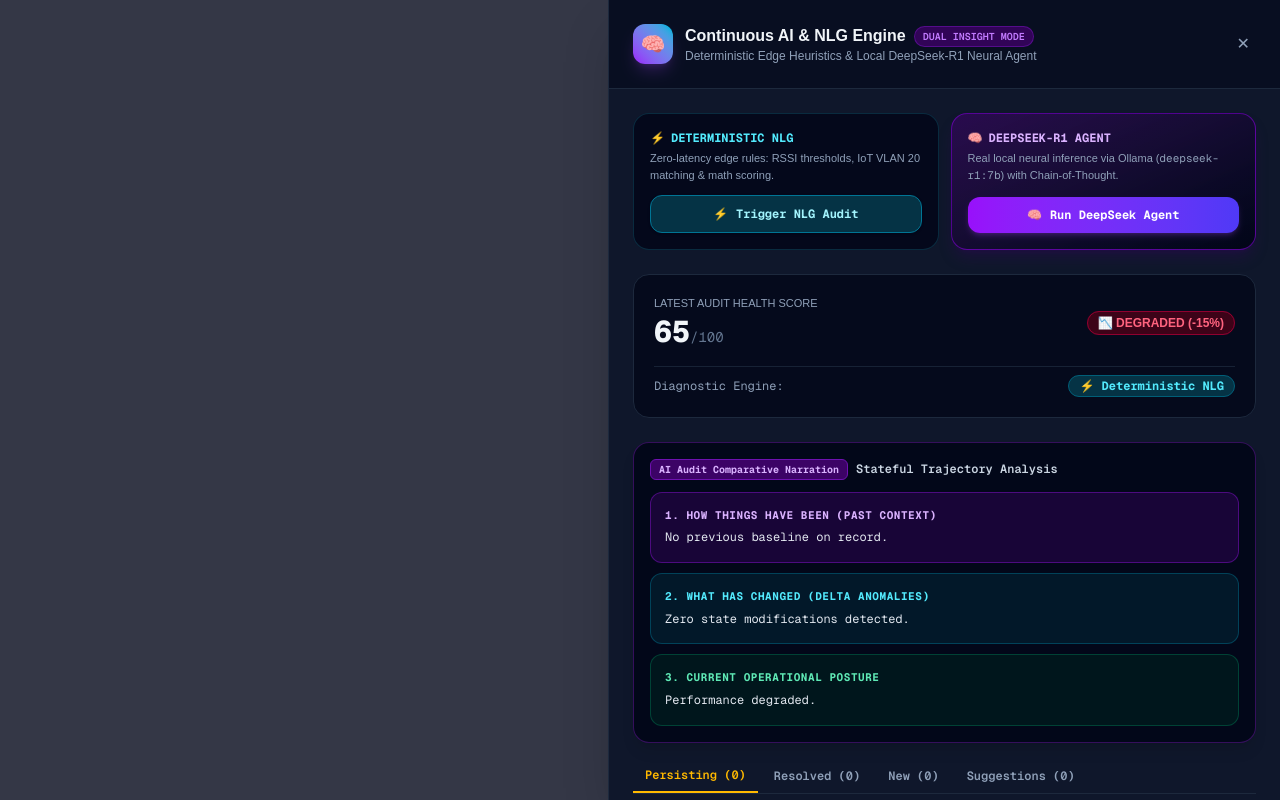
Test: AiInsightsDrawer Component › renders DEGRADED and INITIAL badges and empty tab notices properly
Expected: the text "📉 DEGRADED (-15%)" is shown, [1087,311,1235,335]
Note: Check empty resolved notice
Click the button "Resolved (0)" at {"x": 817, "y": 780}, box [762,767,872,793]
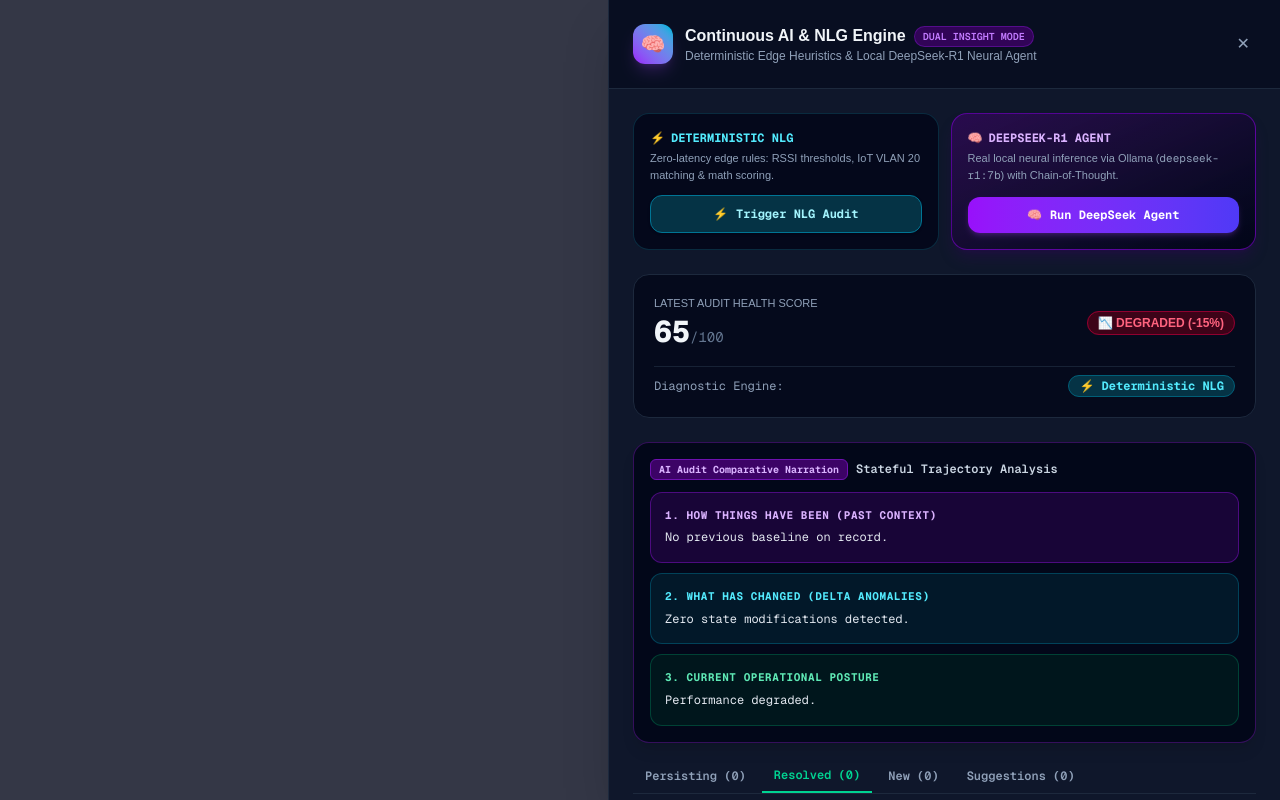
Note: Check empty new notice
Click the button "New (0)" at {"x": 913, "y": 780}, box [876,767,951,793]
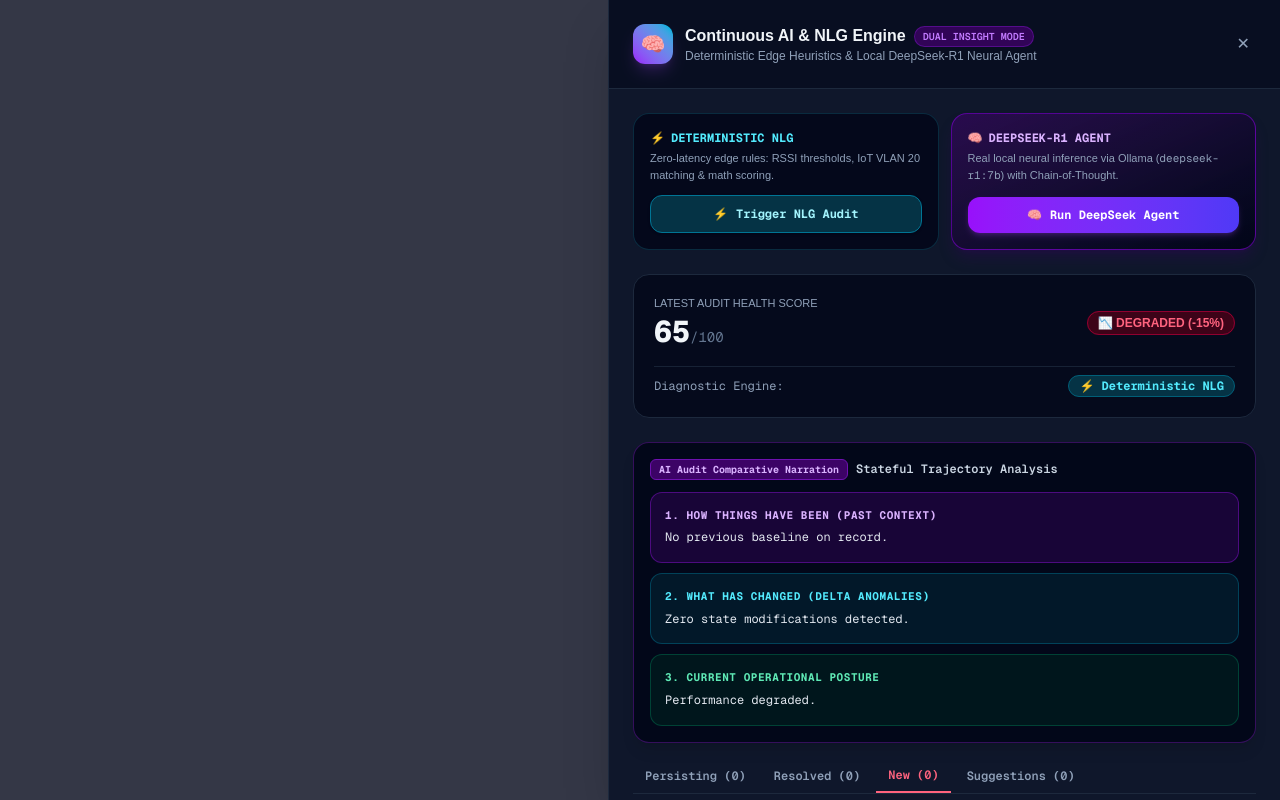
Note: Check empty suggestions notice
Click the button "Suggestions (0)" at {"x": 1021, "y": 780}, box [955,767,1087,793]
(page scrolled)
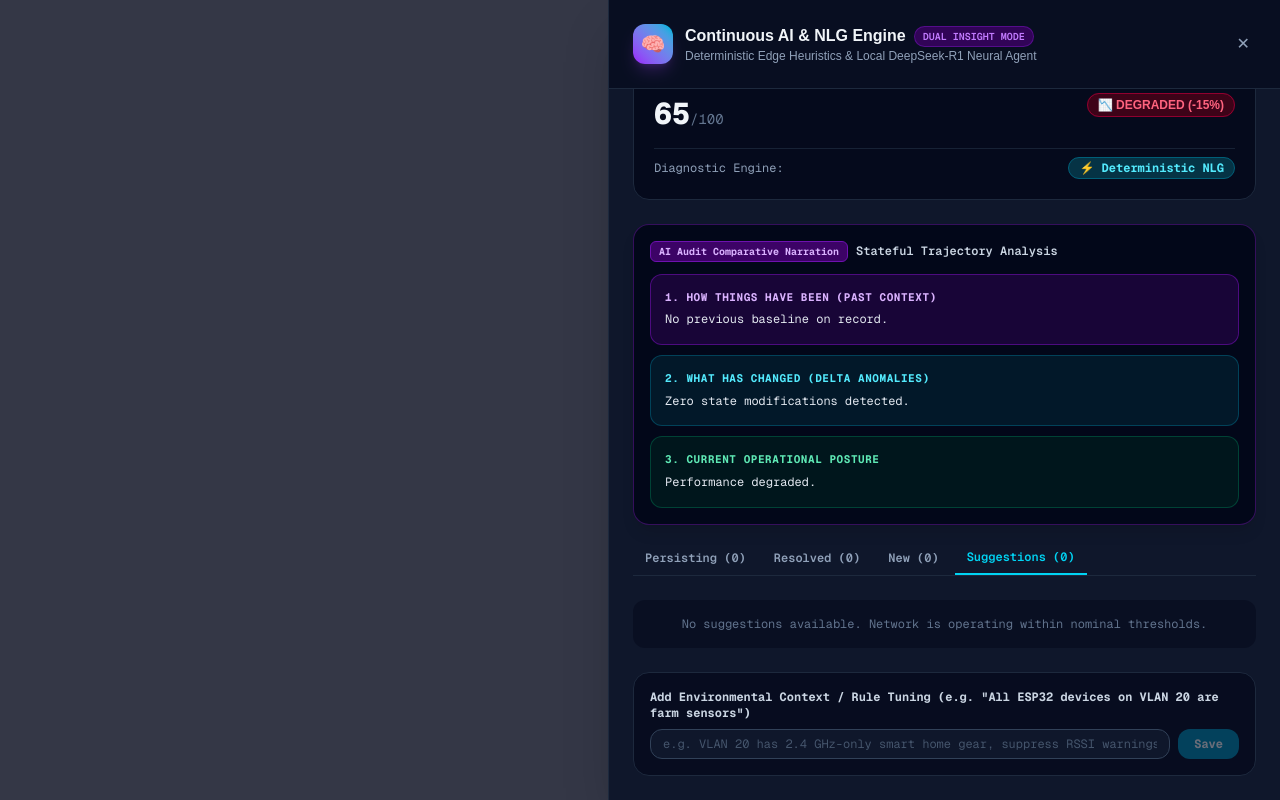
Expected: the text "No suggestions available" is shown, [682,616,1207,632]
